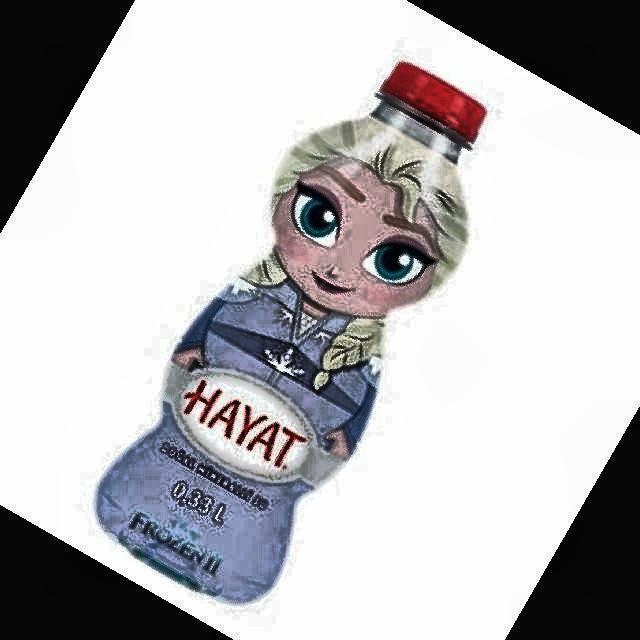plastic: (96, 62, 486, 601)
